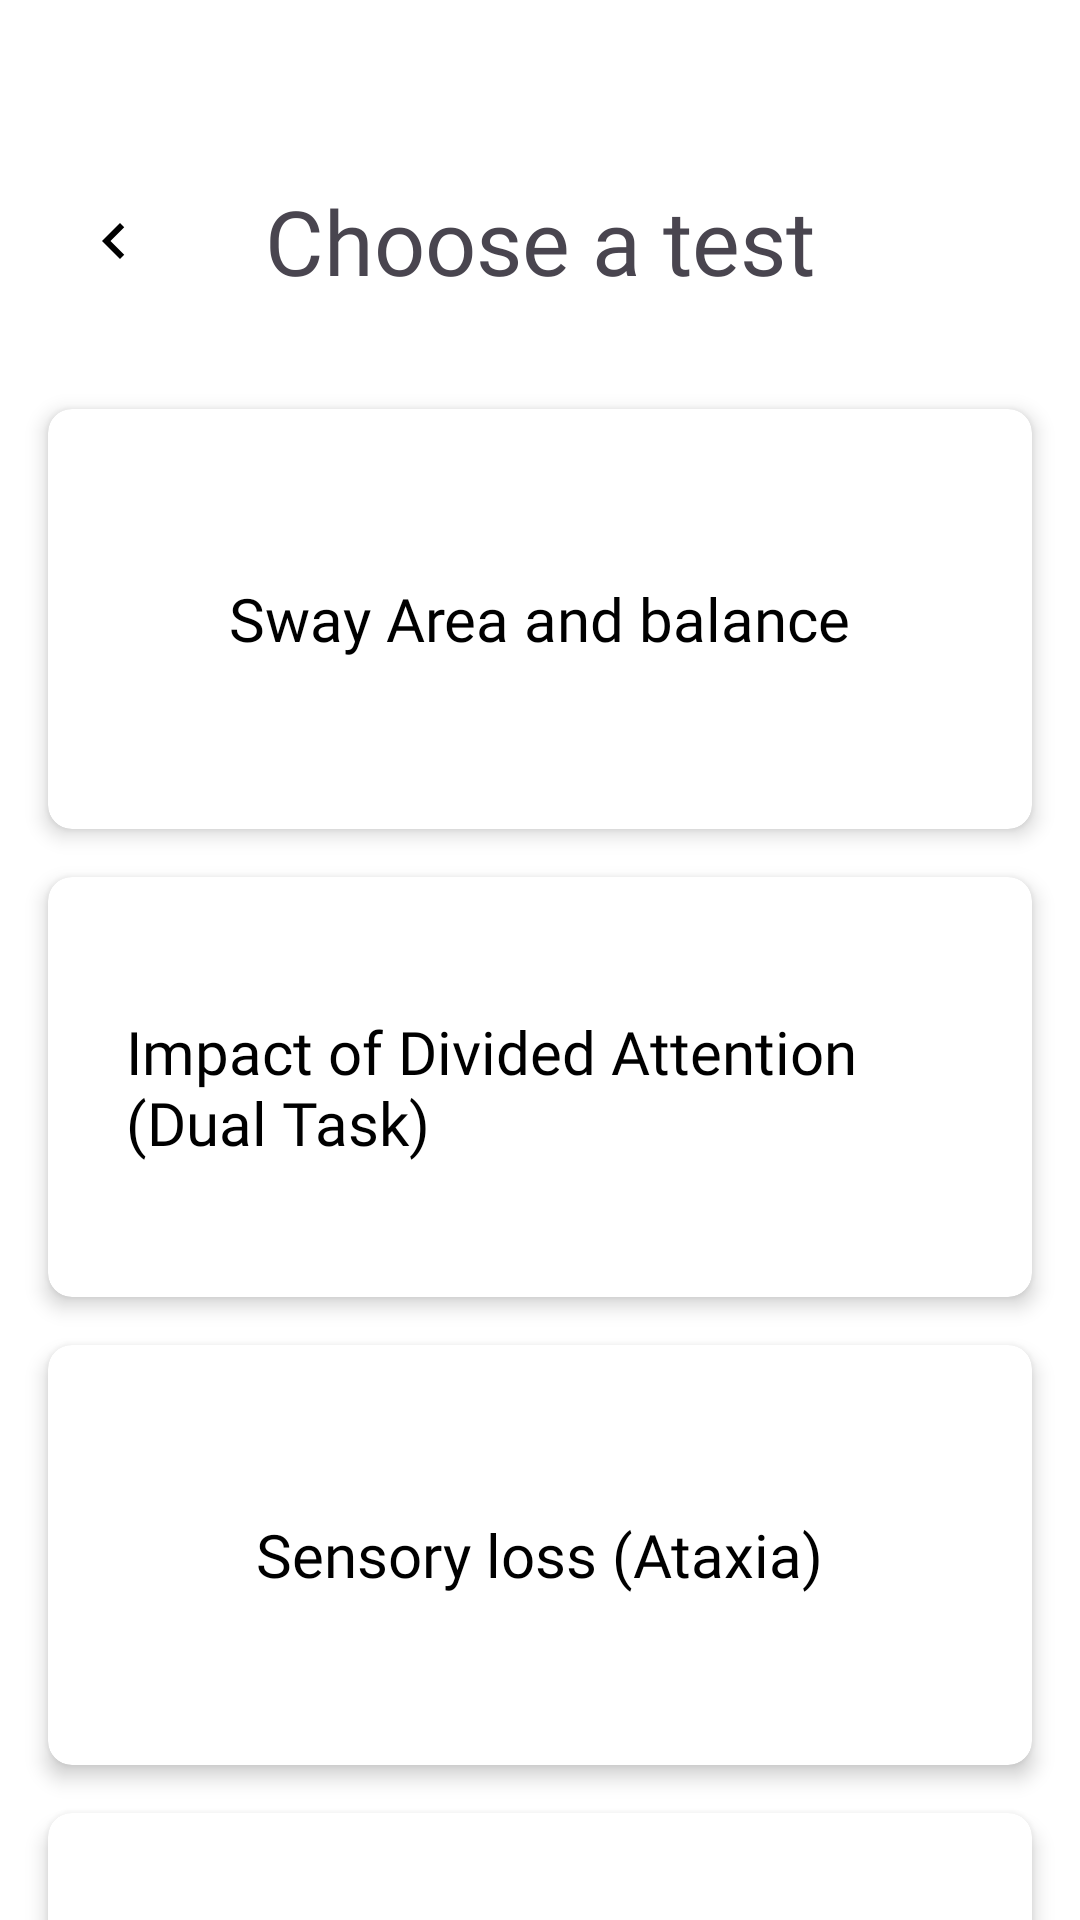

Where icons sit on this 1080 x 1920 app screen, as (x1, y1, x2, y2):
chevron left: (102, 223, 124, 259)
